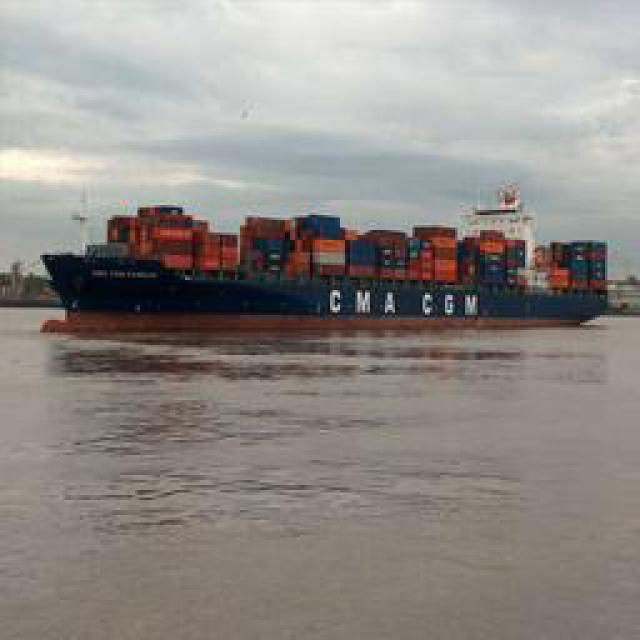Ship: (28, 186, 613, 324)
